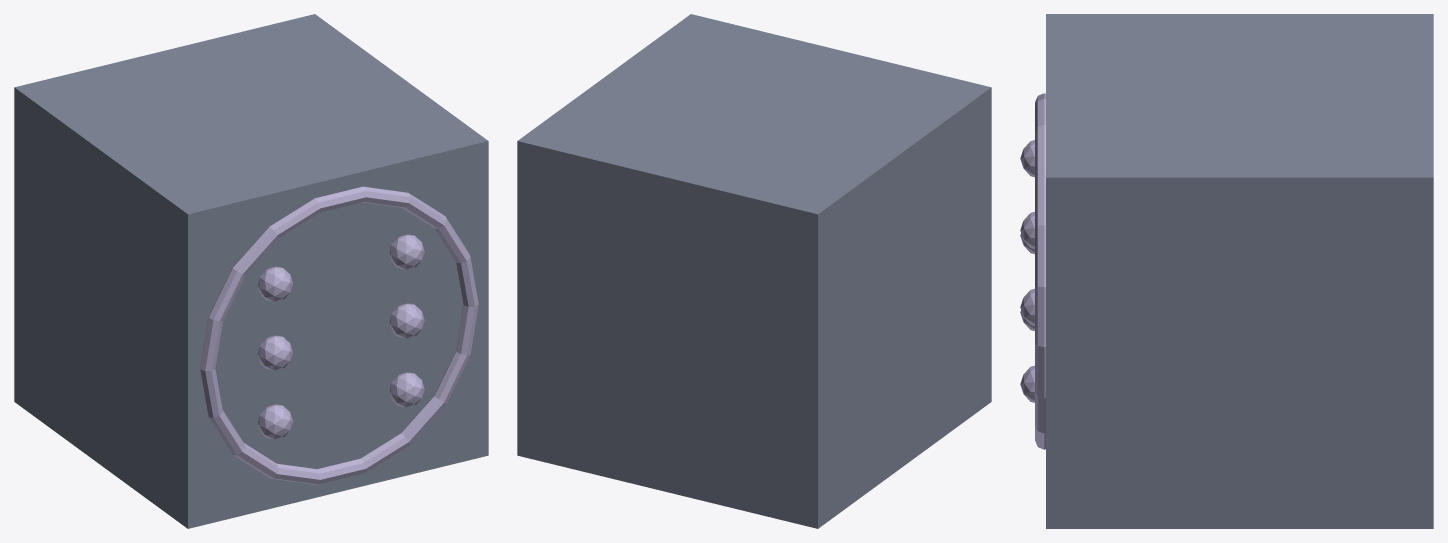
The model's file is schwerkraft.glb.
The picture shows the model from 3 angles, left to right: view 1: azimuth 30°, elevation 25°; view 2: azimuth 150°, elevation 25°; view 3: azimuth 270°, elevation 25°; orthographic projection. The views are drawn at different scales.
Parts seen in each view (by area): view 1: world; view 2: world; view 3: world.
Boxes of the visible parts, left/top/right/bottom form: world: left=14, top=14, right=488, bottom=528; world: left=517, top=14, right=991, bottom=528; world: left=1020, top=14, right=1433, bottom=528.
Bounding box in the file's own units: 1.05 × 1.05 × 1.12.
